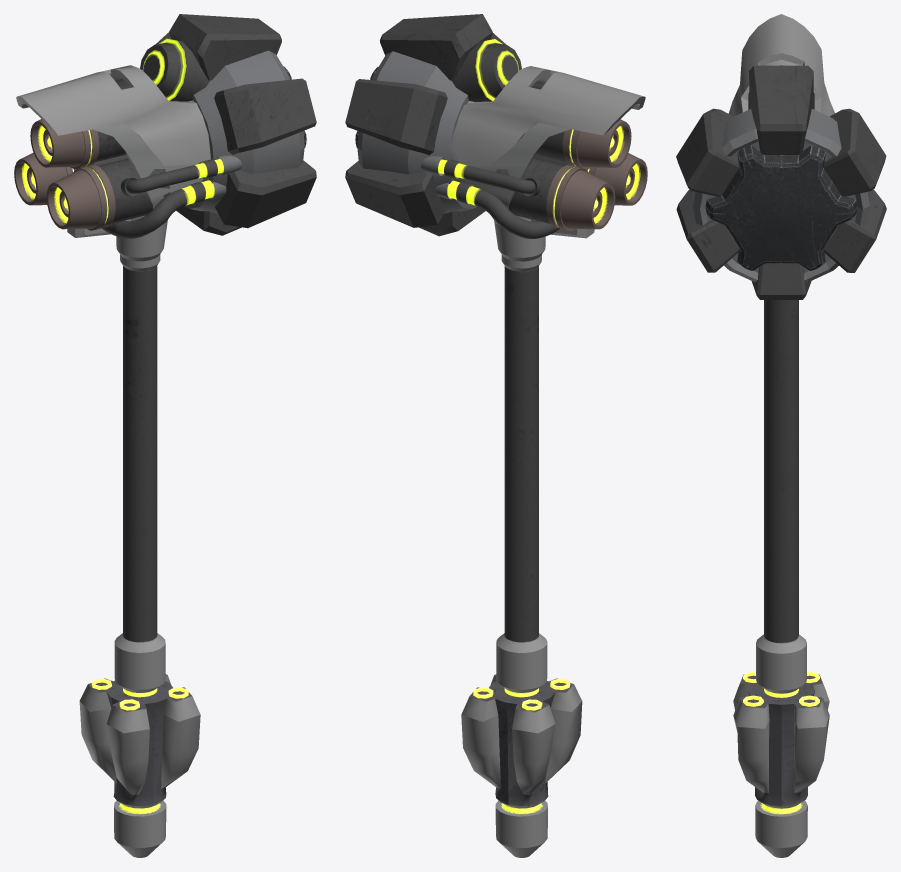
The model's file is Martillo_low_fin.fbx.
3 renders of one model, left to right at view 1: azimuth 30°, elevation 25°; view 2: azimuth 150°, elevation 25°; view 3: azimuth 270°, elevation 25°, orthographic.
Parts seen in each view (by area): view 1: Mango_low, Base_low, Chapa_low, Martillo_low, Turbinas2y3_low, Agarre4_low, AgarreSup_low, Agarre5_low, Turbina1_low, TurbinaSup_low, Tubos2_low, Tubos1_low (+1 smaller); view 2: Mango_low, Base_low, Chapa_low, Martillo_low, Turbinas2y3_low, Agarre3_low, AgarreSup_low, Agarre2_low, Turbina1_low, TurbinaSup_low, Tubos2_low, Tubos1_low (+1 smaller); view 3: Mango_low, Tapa_low, Base_low, AgarreSup_low, Chapa_low, Martillo_low, Agarre4_low, Agarre3_low, Agarre2_low, Agarre5_low, Agarre1_low.
Boxes of the visible parts, left/top/right/bottom form: Mango_low: left=114, top=215, right=168, bottom=697; Base_low: left=79, top=674, right=200, bottom=857; Chapa_low: left=16, top=65, right=210, bottom=165; Martillo_low: left=93, top=50, right=304, bottom=213; Turbinas2y3_low: left=14, top=152, right=170, bottom=230; Agarre4_low: left=214, top=78, right=316, bottom=154; AgarreSup_low: left=169, top=14, right=281, bottom=80; Agarre5_low: left=215, top=160, right=316, bottom=228; Turbina1_low: left=30, top=119, right=126, bottom=169; TurbinaSup_low: left=140, top=38, right=210, bottom=101; Tubos2_low: left=102, top=180, right=226, bottom=238; Tubos1_low: left=121, top=155, right=242, bottom=196; Mango_low: left=492, top=216, right=547, bottom=697; Base_low: left=461, top=674, right=582, bottom=857; Chapa_low: left=452, top=66, right=645, bottom=166; Martillo_low: left=357, top=51, right=570, bottom=213; Turbinas2y3_low: left=492, top=153, right=647, bottom=230; Agarre3_low: left=345, top=79, right=447, bottom=155; AgarreSup_low: left=380, top=14, right=492, bottom=80; Agarre2_low: left=345, top=161, right=446, bottom=227; Turbina1_low: left=535, top=119, right=631, bottom=169; TurbinaSup_low: left=452, top=39, right=521, bottom=101; Tubos2_low: left=435, top=180, right=559, bottom=238; Tubos1_low: left=421, top=156, right=540, bottom=196; Mango_low: left=756, top=300, right=806, bottom=697; Tapa_low: left=705, top=145, right=857, bottom=270; Base_low: left=733, top=674, right=829, bottom=857; AgarreSup_low: left=749, top=65, right=813, bottom=154; Chapa_low: left=728, top=14, right=834, bottom=116; Martillo_low: left=693, top=63, right=869, bottom=282; Agarre4_low: left=676, top=108, right=739, bottom=196; Agarre3_low: left=823, top=108, right=886, bottom=196; Agarre2_low: left=823, top=189, right=886, bottom=272; Agarre5_low: left=676, top=189, right=739, bottom=272; Agarre1_low: left=751, top=263, right=811, bottom=299.
Size of the model in its own units: 4.43 by 13.51 by 3.17.
1 material, 1 textured.
